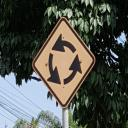Rotatoria: (32, 17, 96, 109)
